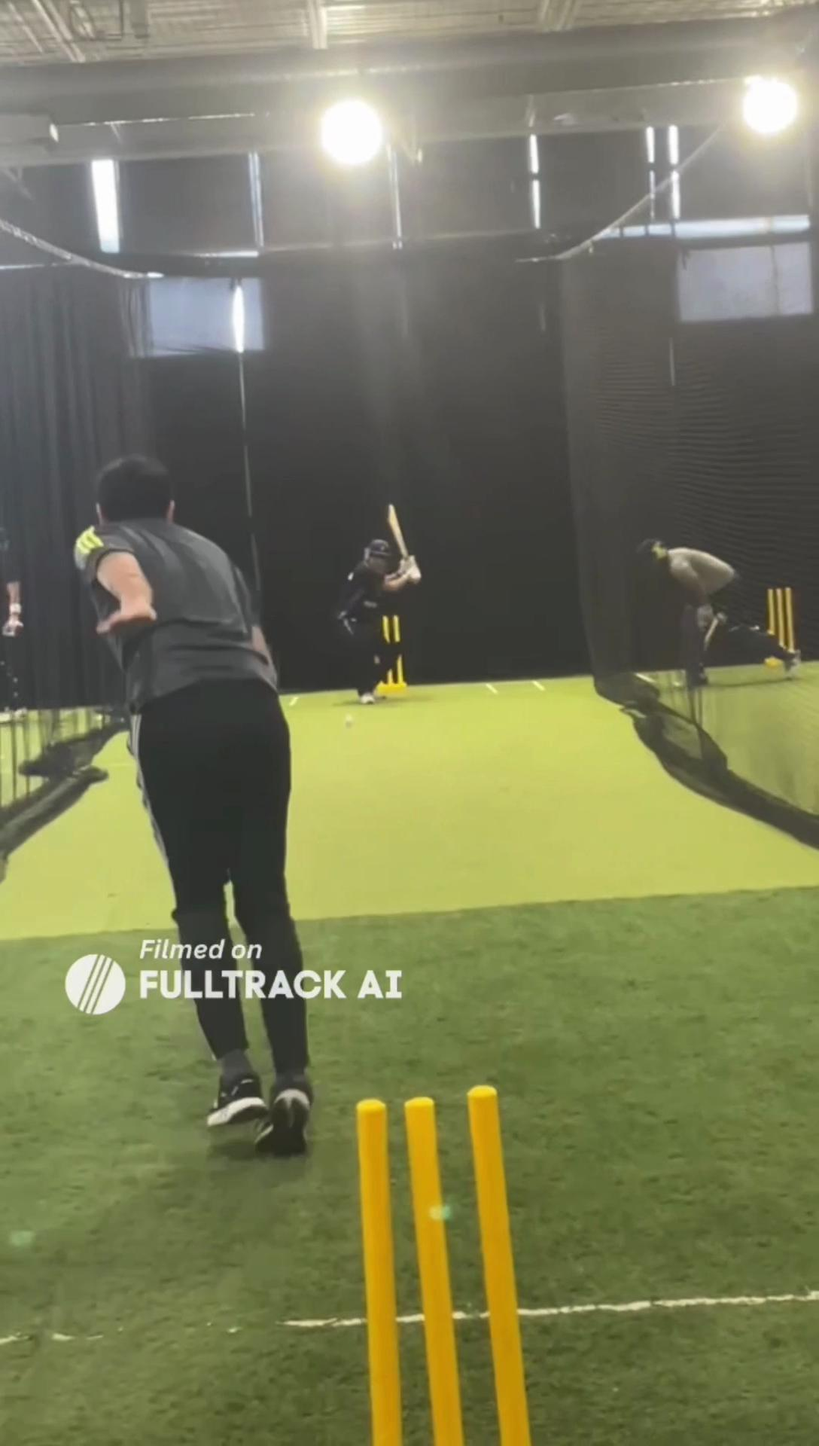ball: (339, 714, 357, 730)
